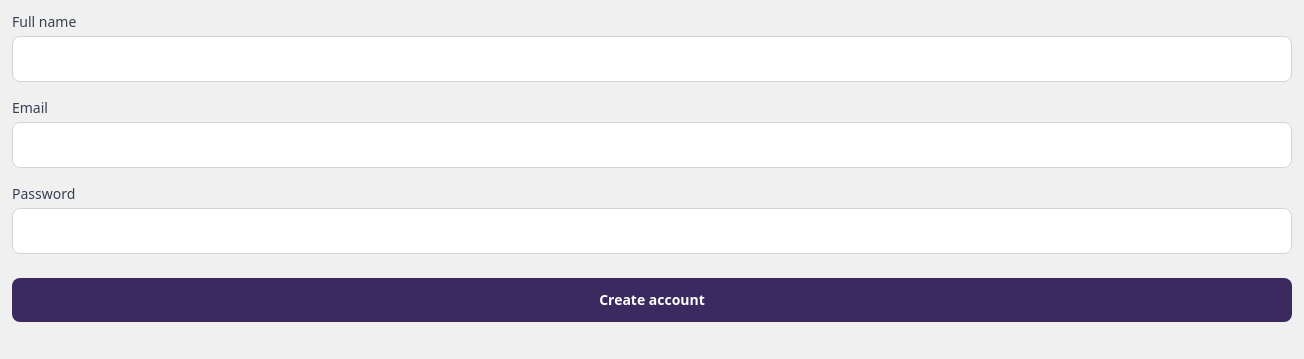
Test: RegisterForm › shows validation error when password is too short
Type "Jane Doe" into the field labelled "Full name" at coordinates (652, 59), box left=12, top=36, right=1292, bottom=82
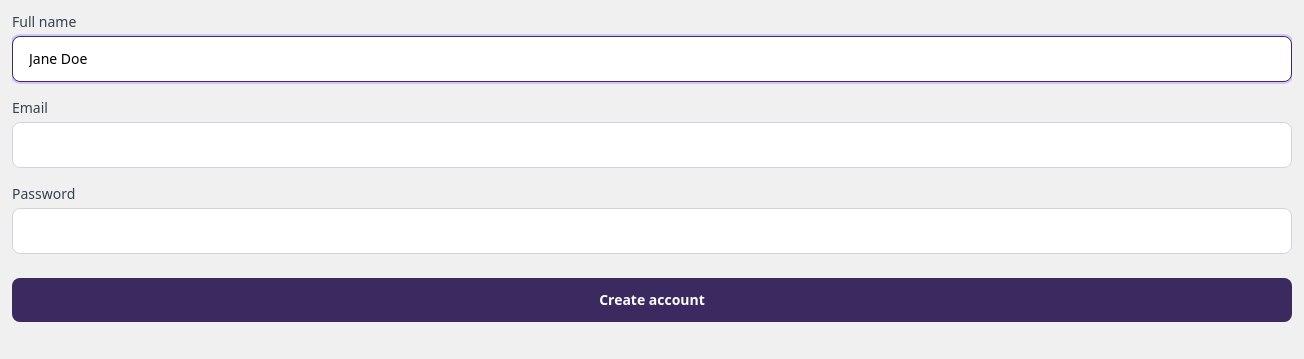
Type "jane@example.com" into the field labelled "Email" at coordinates (652, 145), box left=12, top=122, right=1292, bottom=168
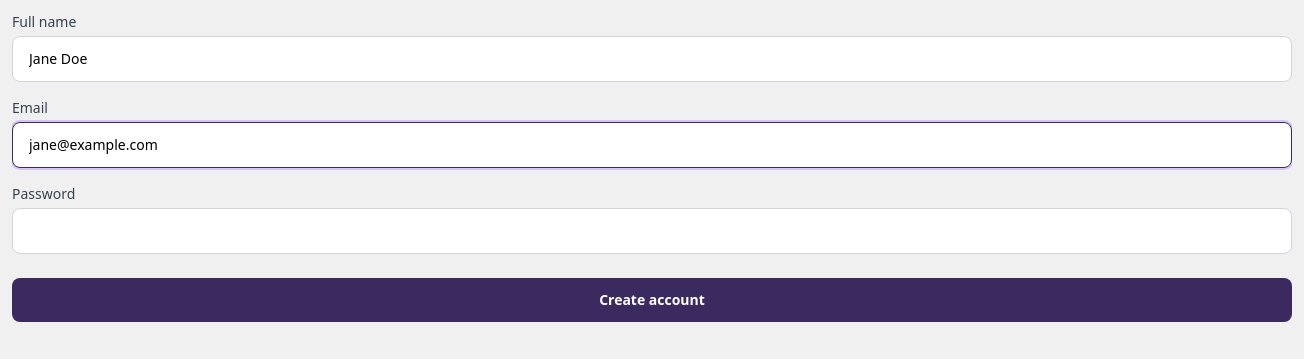
Type "short" into the password field labelled "Password" at coordinates (652, 231), box left=12, top=208, right=1292, bottom=254
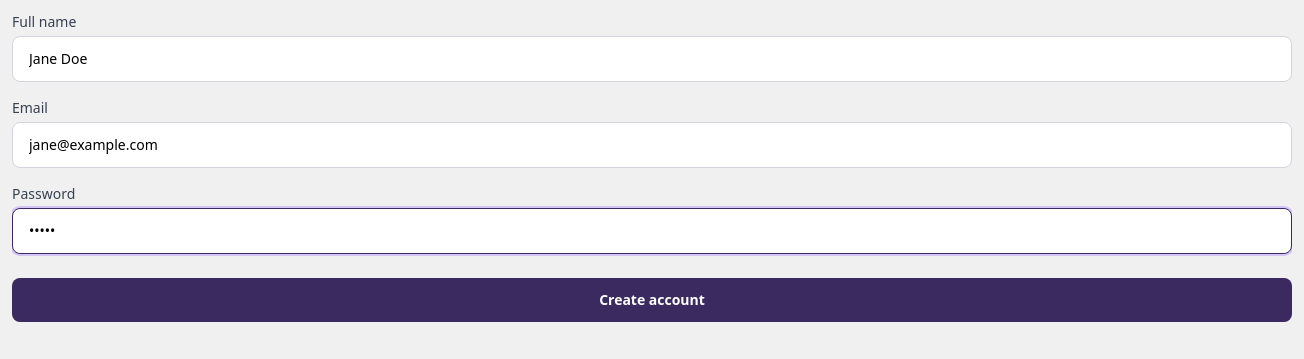
Click the button "Create account" at coordinates (652, 300), box left=12, top=278, right=1292, bottom=322
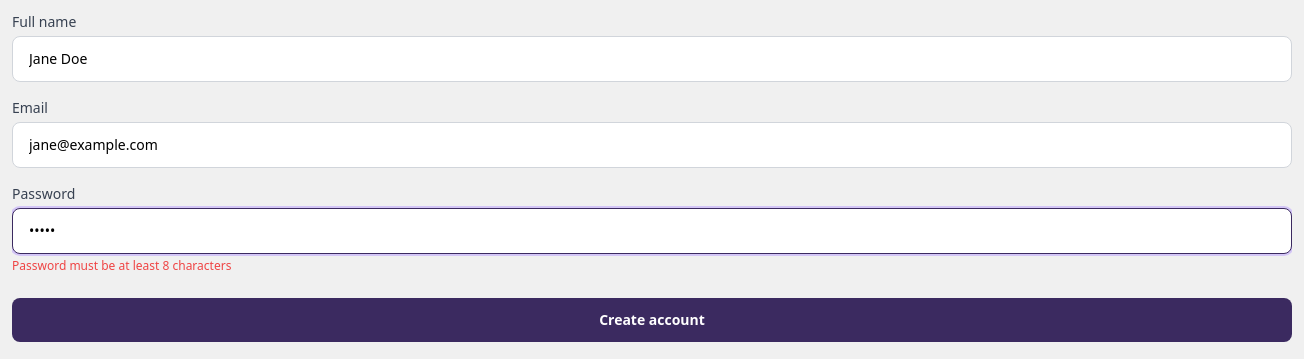
Expected: the text "Password must be at least 8 characters" is shown, left=12, top=257, right=231, bottom=274
